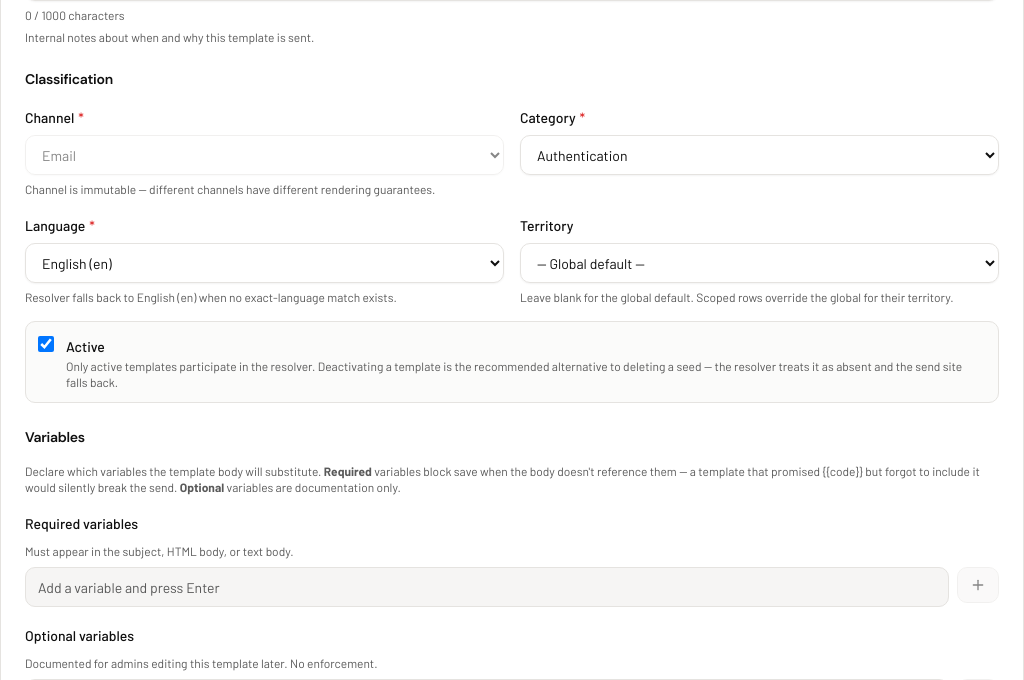
Scenario: variable chip editor › commits on comma too
(page scrolled)
Type "first,second," into the field with placeholder "Add a variable and press Enter".
click(487, 587); type("first,second,")  # box [25,567,949,607]
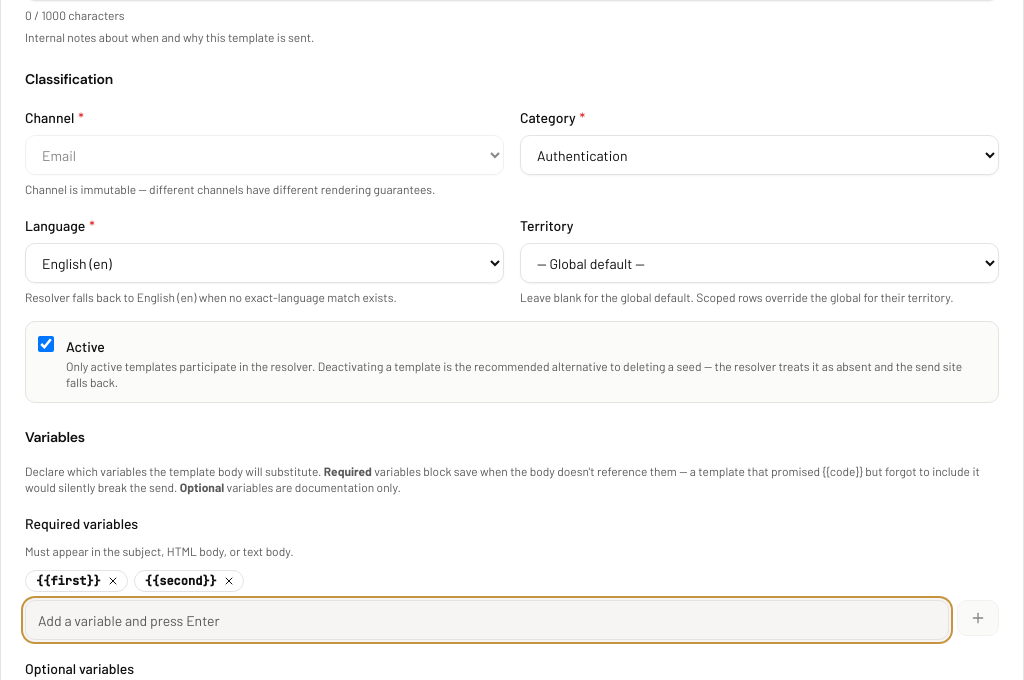
Result: the text "{{first}}" is shown at [25,570,128,592]
Result: the text "{{second}}" is shown at [134,570,244,592]
